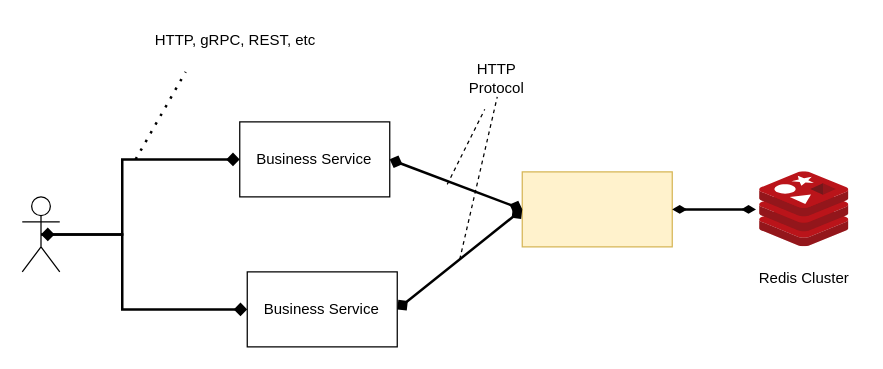
Image size: 883x369. Some labels were removed from this diagram. Here are the shapes that lost their labels. From the top down, the centre of each, then its label:
At pixel 596 209: "Rate Limit Service".
At pixel 40 234: "Client".
